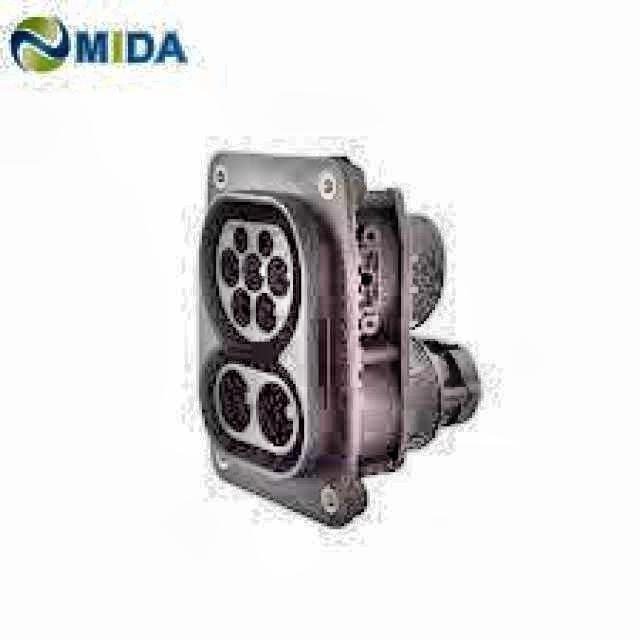inlet: (216, 220, 294, 343)
inlet-above-left: (232, 226, 248, 254)
inlet-above-right: (256, 230, 274, 258)
inlet-below-left: (230, 288, 250, 328)
inlet-below-right: (256, 292, 275, 333)
inlet-center: (242, 252, 263, 293)
inlet-center-left: (219, 249, 239, 286)
inlet-center-right: (268, 258, 287, 298)
